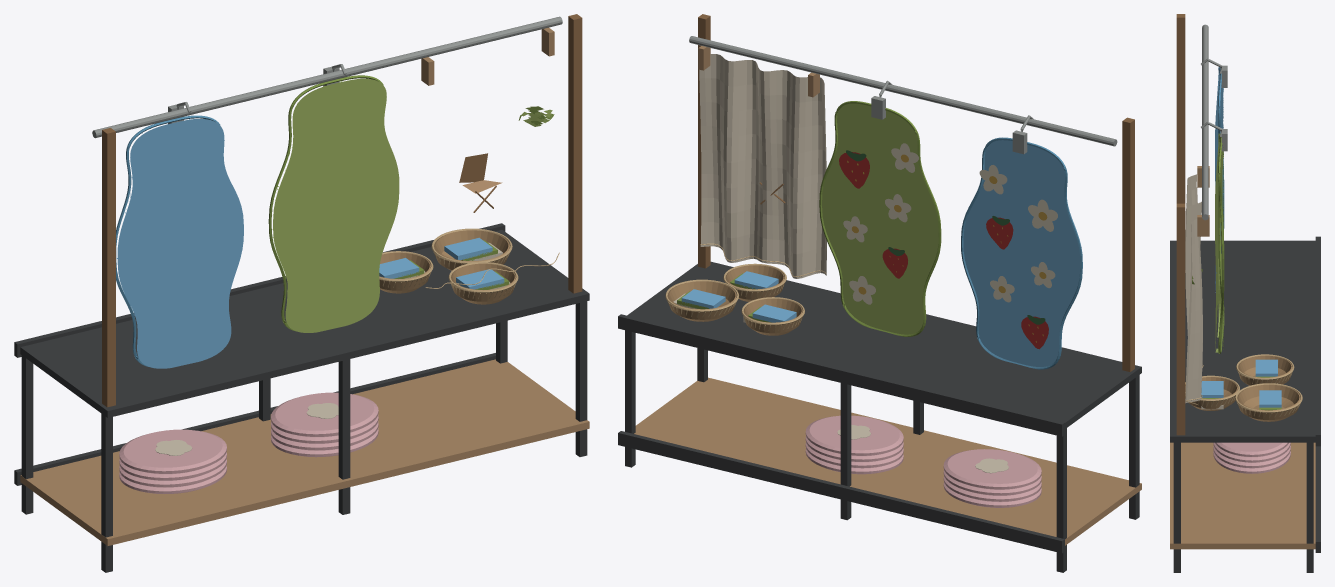
The model's file is rugs.glb.
The picture shows the model from 3 angles, left to right: view 1: azimuth 30°, elevation 25°; view 2: azimuth 150°, elevation 25°; view 3: azimuth 270°, elevation 25°; orthographic projection. The views are drawn at different scales.
Parts seen in each view (by area): view 1: PicnicRugs; view 2: PicnicRugs; view 3: PicnicRugs.
Part boxes in pixels (box(x1,y1,x2,y2)): PicnicRugs: box(14, 14, 589, 572); PicnicRugs: box(618, 14, 1141, 572); PicnicRugs: box(1170, 14, 1320, 572).
Bounding box in the file's own units: 2.51 × 2.15 × 0.8071.
